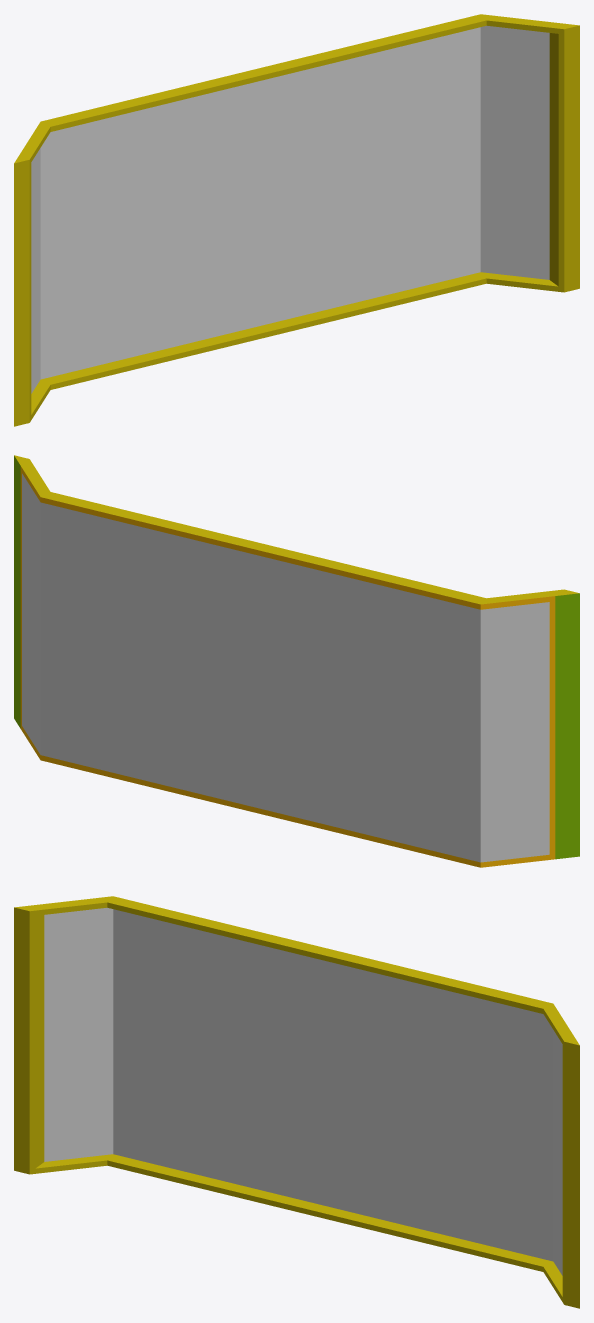
The model's file is window_panoramic_9x1x4.dae.
The picture shows the model from 3 angles, top to bottom: view 1: azimuth 30°, elevation 25°; view 2: azimuth 150°, elevation 25°; view 3: azimuth 330°, elevation 25°; orthographic projection.
Visible parts, largest first — view 1: Cube; view 2: Cube; view 3: Cube.
Part boxes in pixels (bbox=[...]): Cube: bbox=[14, 14, 579, 426]; Cube: bbox=[14, 455, 579, 867]; Cube: bbox=[14, 896, 579, 1308].
Size of the model in its own units: 2.25 by 0.25 by 1.
